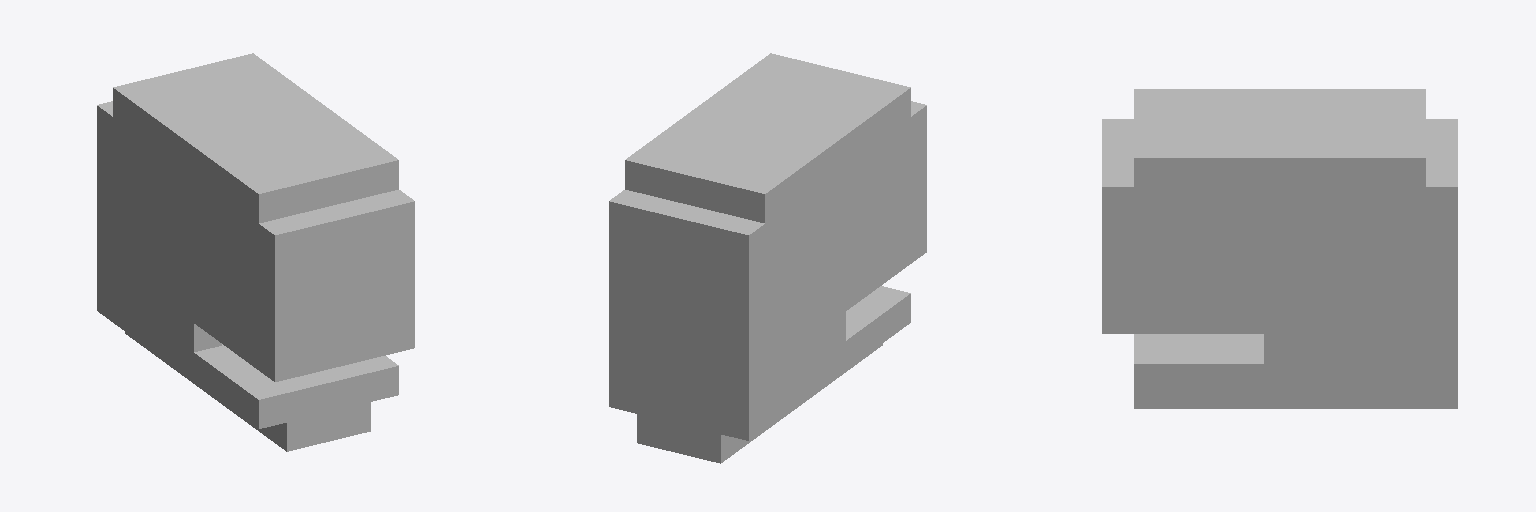
File: 5.T-Rex_Left.obj
3 views of the same model, side by side, from view 1: azimuth 30°, elevation 25°; view 2: azimuth 150°, elevation 25°; view 3: azimuth 270°, elevation 25° (orthographic).
Parts seen in each view (by area): view 1: object 1; view 2: object 1; view 3: object 1.
Boxes of the visible parts, x1=… form: object 1: x1=97, y1=53, x2=414, y2=451; object 1: x1=609, y1=53, x2=926, y2=463; object 1: x1=1102, y1=89, x2=1457, y2=408.
Bounding box in the file's own units: 4 × 7.2 × 8.8.